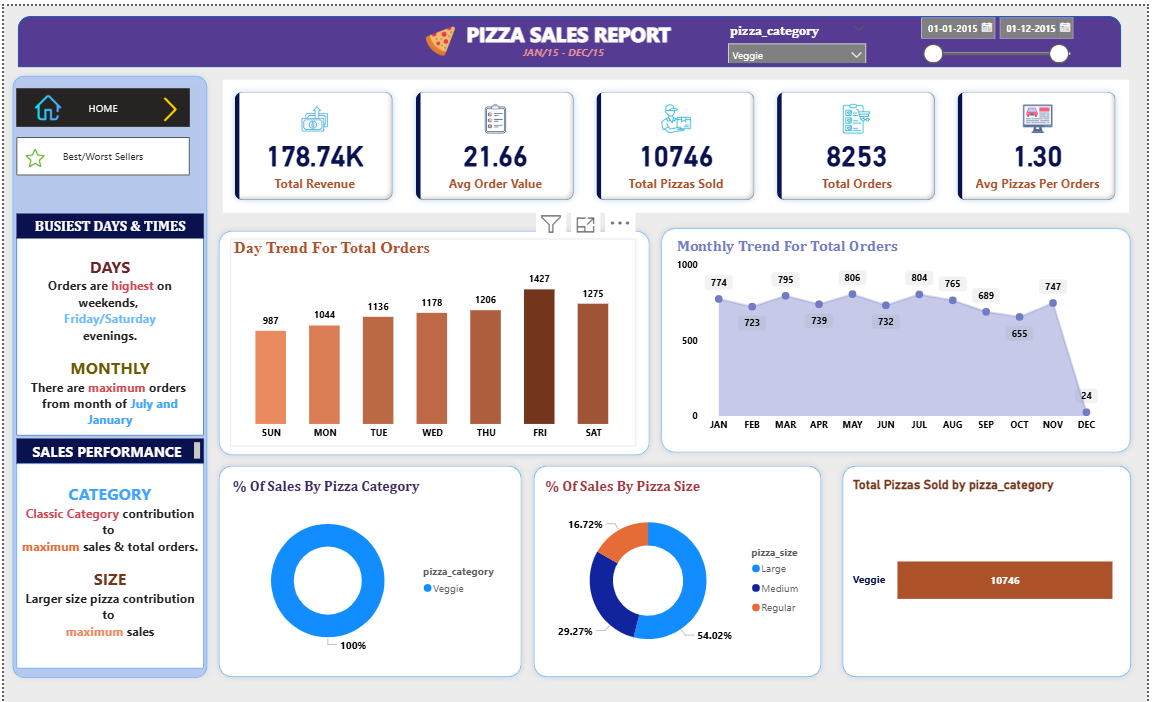

The page's visual inventory and layout, read from the dashboard file:
{"tool":"powerbi","page":{"name":"HOME","canvas":[1500,920],"ordinal":0},"visuals":[{"type":"cardVisual","fields":{"Data":["pizza_sales.total revenue","pizza_sales.Avg order value","pizza_sales.total pizzas sold","pizza_sales.total orders","pizza_sales.avg pizzas per orders"]},"box":[287.1,97.1,1188.6,174.3],"z":0},{"type":"shape","box":[17.7,12.9,1447.3,67.5],"z":1000},{"type":"textbox","box":[602.1,12.8,304.6,51],"z":2000},{"type":"textbox","box":[675.4,46.6,147.9,35.4],"z":3000},{"type":"shape","box":[273.4,286.2,580.9,310.3],"z":4000},{"type":"image","box":[541.9,20.9,59.5,49.9],"z":5000},{"type":"shape","box":[2.9,82.9,271.4,805.7],"z":6000},{"type":"columnChart","title":"Day Trend For Total Orders","fields":{"Category":["pizza_sales.order day"],"Y":["pizza_sales.Total Orders"]},"box":[297.5,304.6,531.3,273.4],"z":7000},{"type":"shape","box":[854.3,284.3,631.4,310],"z":8000},{"type":"areaChart","title":"Monthly Trend For Total Orders","fields":{"Category":["pizza_sales.order month"],"Y":["pizza_sales.Total Orders"]},"box":[877,301.8,565.3,266.3],"z":9000},{"type":"shape","box":[274.3,595.7,412.9,292.9],"z":10000},{"type":"shape","box":[1091.4,595.7,394.3,292.9],"z":11000},{"type":"shape","box":[687.1,595.7,392.9,292.9],"z":12000},{"type":"donutChart","title":"% Of Sales By Pizza Category","fields":{"Category":["pizza_sales.pizza_category"],"Y":["pizza_sales.Total Revenue"]},"box":[295.7,618.6,368.6,250],"z":13000},{"type":"donutChart","title":"% Of Sales By Pizza Size","fields":{"Y":["pizza_sales.Total Revenue"],"Category":["pizza_sales.pizza_size"]},"box":[704.3,618.6,360,250],"z":14000},{"type":"funnel","fields":{"Category":["pizza_sales.pizza_category"],"Y":["pizza_sales.Total Pizzas Sold"]},"box":[1108.6,618.6,355.7,250],"z":15000},{"type":"textbox","box":[17.1,301.4,245.7,261.4],"z":16000},{"type":"textbox","box":[17.1,271.4,245.7,32.9],"z":17000},{"type":"textbox","box":[17.1,567.1,245.7,32.9],"z":18000},{"type":"textbox","box":[17.1,600,245.7,268.6],"z":19000},{"type":"slicer","fields":{"Values":["pizza_sales.pizza_category"]},"box":[940,17.1,201.4,58.6],"z":20000},{"type":"slicer","title":"Order date","fields":{"Values":["pizza_sales.order_date"]},"box":[1190.7,5.3,229.3,77.3],"z":21000},{"type":"pageNavigator","box":[17.1,108.6,227.1,50],"z":22000},{"type":"pageNavigator","box":[17.1,172.9,227.1,50],"z":23000},{"type":"image","box":[191.4,114.3,52.9,41.4],"z":24000},{"type":"image","box":[27.1,111.4,60,44.3],"z":25000},{"type":"image","box":[17.1,181.4,48.6,34.3],"z":26000}]}

Visuals, with their boxes in screenshot pixels (x1, y1, x2, y2), scaled from the page's 1500x920 canvas onto the 1152x702 screenshot:
cardVisual - pizza_sales.total revenue x pizza_sales.Avg order value: locate(220, 74, 1133, 207)
shape: locate(14, 10, 1125, 61)
textbox: locate(462, 10, 696, 49)
textbox: locate(519, 36, 632, 63)
shape: locate(210, 218, 656, 455)
image: locate(416, 16, 462, 54)
shape: locate(2, 63, 211, 678)
"Day Trend For Total Orders" columnChart: locate(228, 232, 637, 441)
shape: locate(656, 217, 1141, 453)
"Monthly Trend For Total Orders" areaChart: locate(674, 230, 1108, 433)
shape: locate(211, 455, 528, 678)
shape: locate(838, 455, 1141, 678)
shape: locate(528, 455, 829, 678)
"% Of Sales By Pizza Category" donutChart: locate(227, 472, 510, 663)
"% Of Sales By Pizza Size" donutChart: locate(541, 472, 817, 663)
funnel - pizza_sales.pizza_category x pizza_sales.Total Pizzas Sold: locate(851, 472, 1125, 663)
textbox: locate(13, 230, 202, 429)
textbox: locate(13, 207, 202, 232)
textbox: locate(13, 433, 202, 458)
textbox: locate(13, 458, 202, 663)
slicer - pizza_sales.pizza_category: locate(722, 13, 877, 58)
"Order date" slicer: locate(914, 4, 1091, 63)
pageNavigator: locate(13, 83, 188, 121)
pageNavigator: locate(13, 132, 188, 170)
image: locate(147, 87, 188, 119)
image: locate(21, 85, 67, 119)
image: locate(13, 138, 50, 165)
